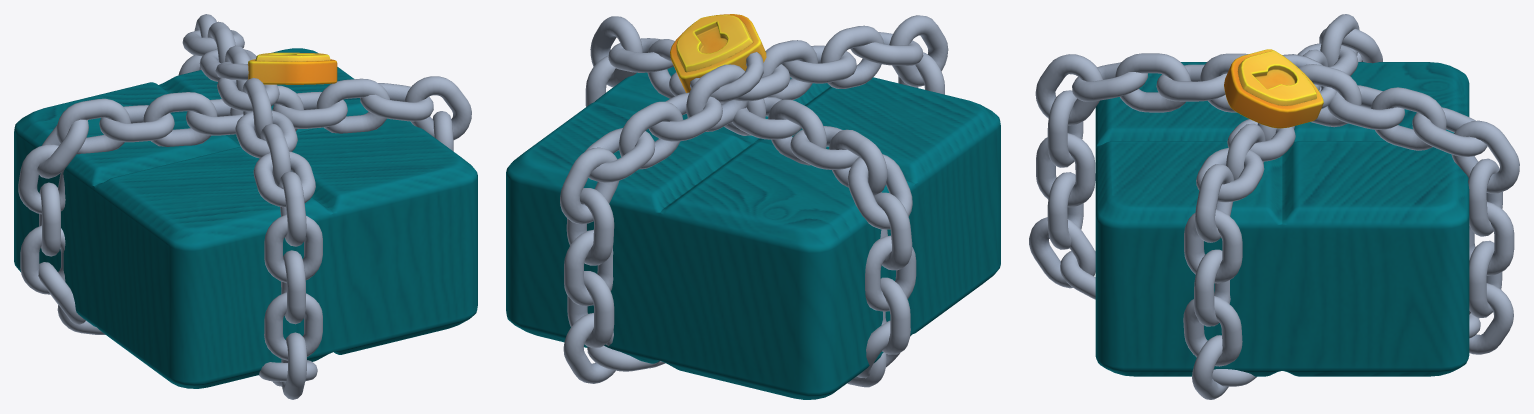
Rendered from Chain_Block_04.fbx.
The picture shows the model from 3 angles, left to right: view 1: azimuth 30°, elevation 25°; view 2: azimuth 150°, elevation 25°; view 3: azimuth 270°, elevation 25°; orthographic projection. The views are drawn at different scales.
Visible parts, largest first — view 1: Chain_Block; view 2: Chain_Block; view 3: Chain_Block.
Part boxes in pixels (x1,y1,x2,y2): Chain_Block: (14,14,477,399); Chain_Block: (506,14,1000,399); Chain_Block: (1029,14,1519,399).
Bounding box in the file's own units: 2.45 × 1.71 × 2.63.
2 materials, 2 textured.
